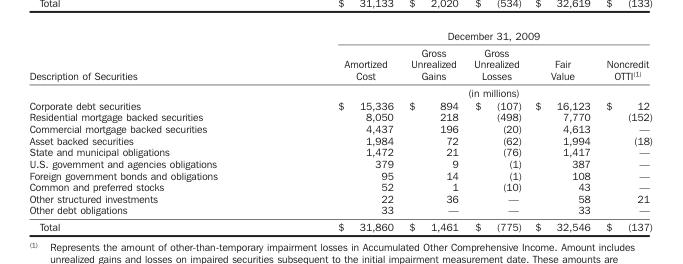table: (28, 29, 652, 232)
table column: (28, 29, 277, 232), (277, 29, 400, 232), (527, 29, 597, 232), (400, 29, 465, 232), (465, 29, 527, 232), (597, 29, 652, 232)
table column header: (28, 29, 652, 98)
table row: (28, 43, 652, 83), (28, 83, 652, 98), (28, 203, 652, 218), (28, 29, 652, 43), (28, 218, 652, 232), (28, 98, 652, 110), (28, 110, 652, 122), (28, 122, 652, 134), (28, 145, 652, 157), (28, 168, 652, 180), (28, 180, 652, 192), (28, 134, 652, 145), (28, 157, 652, 168), (28, 192, 652, 203)
table spanning cell: (28, 29, 277, 98), (277, 83, 652, 98), (277, 29, 652, 43)
